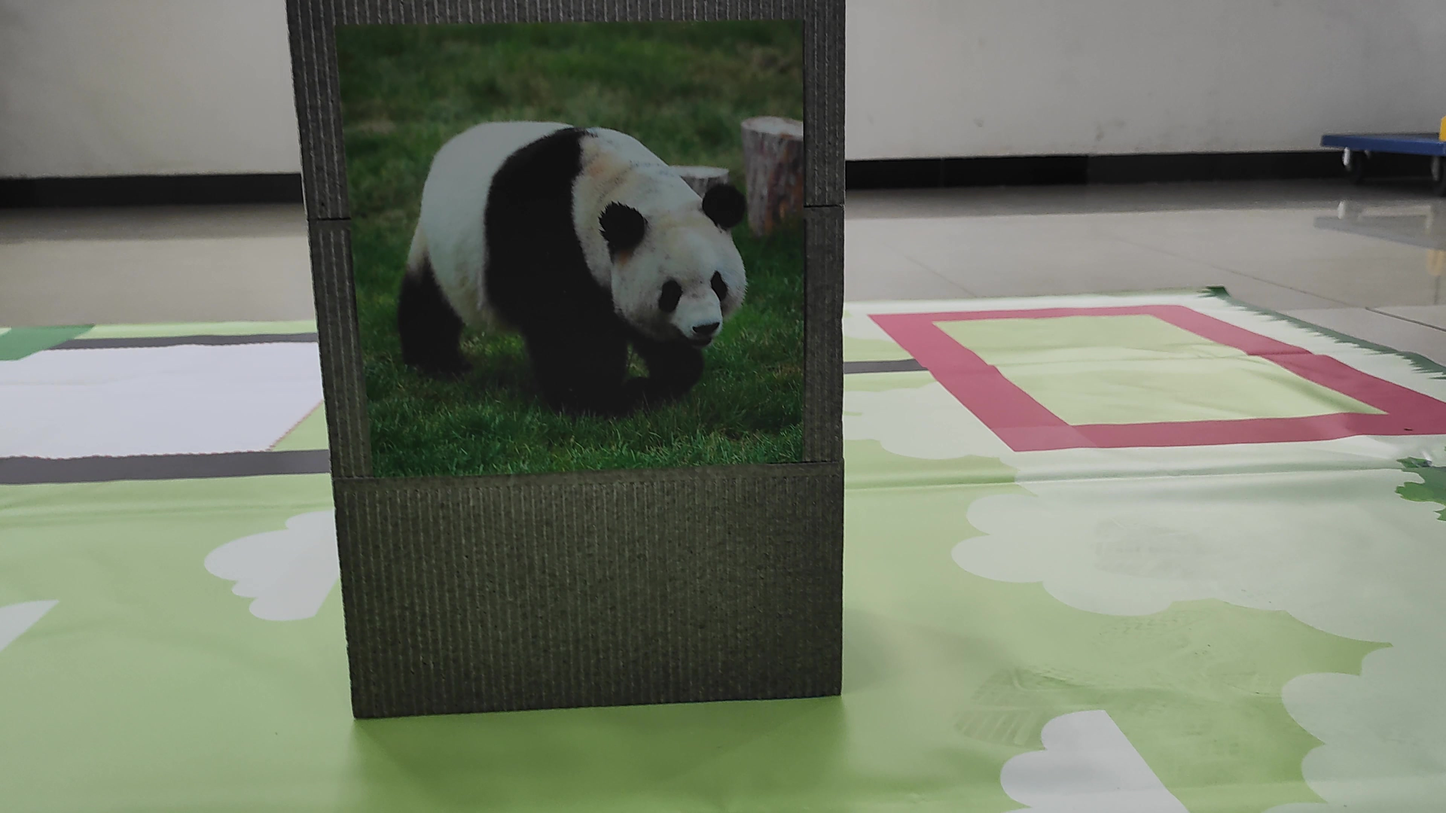panda: (375, 105, 751, 435)
